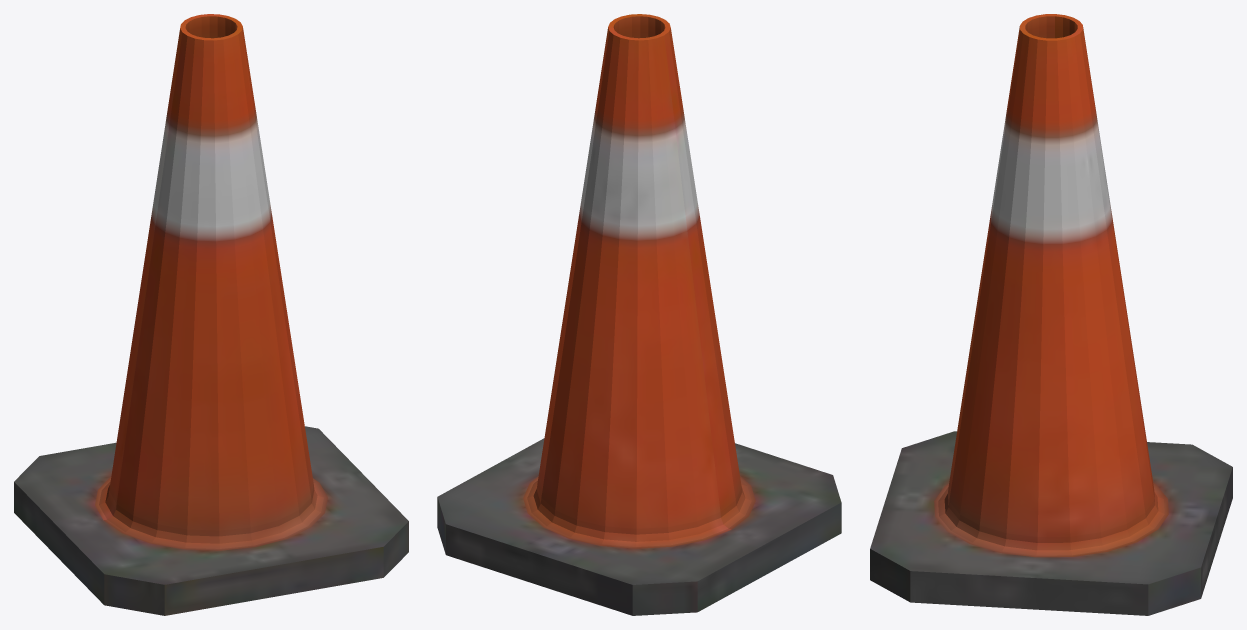
The picture shows the model from 3 angles, left to right: view 1: azimuth 30°, elevation 25°; view 2: azimuth 150°, elevation 25°; view 3: azimuth 270°, elevation 25°; orthographic projection.
Visible parts, largest first — view 1: geometry_0; view 2: geometry_0; view 3: geometry_0.
Part boxes in pixels (box(x1,y1,x2,y2)): geometry_0: box(14, 14, 408, 615); geometry_0: box(437, 14, 841, 615); geometry_0: box(870, 14, 1232, 615).
Bounding box in the file's own units: 0.3129 × 0.4872 × 0.3129.
1 material, 1 textured.
